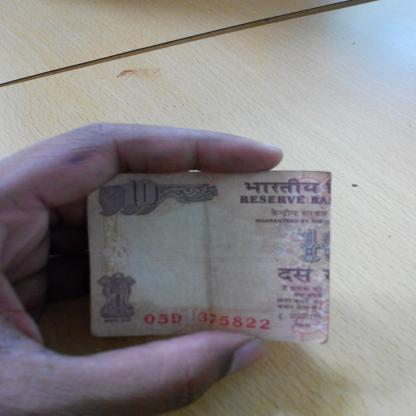Old10Front: (87, 169, 334, 345)
